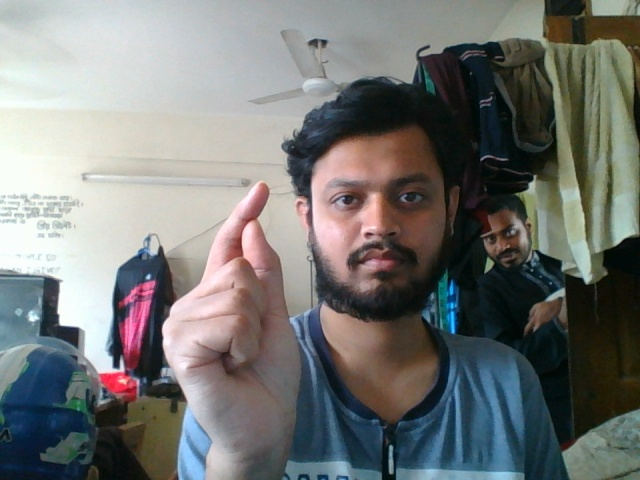tha: (155, 177, 306, 470)
